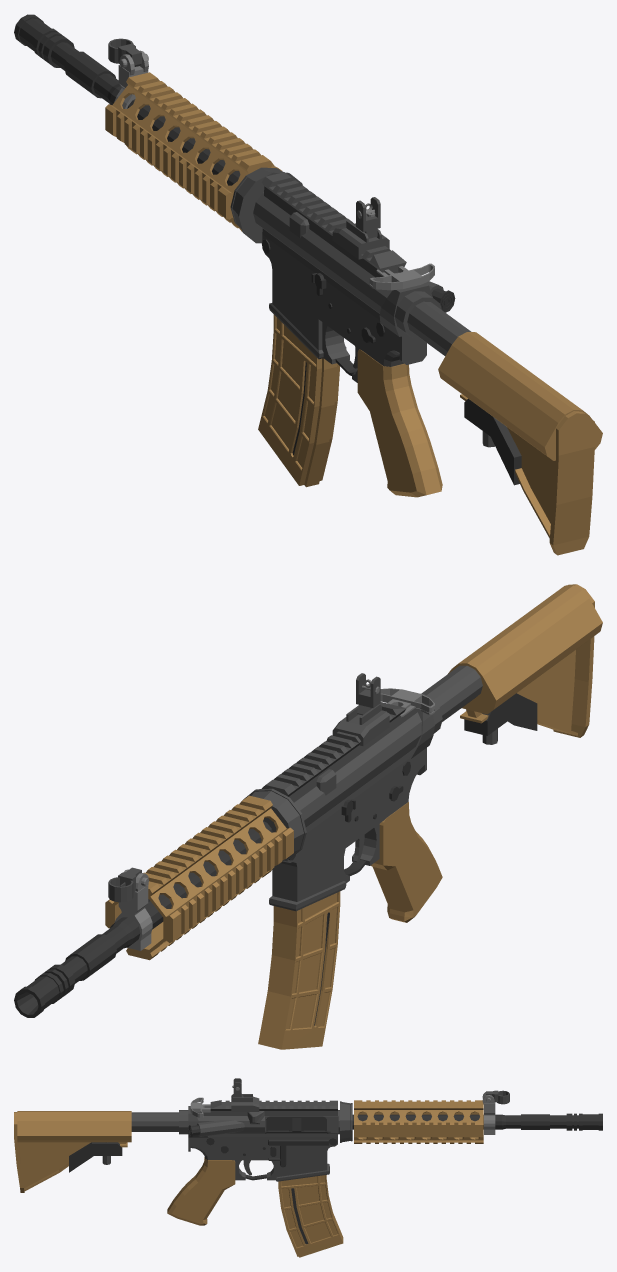
3 views of the same model, one above another, from view 1: azimuth 30°, elevation 25°; view 2: azimuth 150°, elevation 25°; view 3: azimuth 270°, elevation 25° (orthographic). The views are drawn at different scales.
Visible parts, largest first — view 1: M4_8, M4_8_Magazine, M4_8_Rear_Sight, M4_8_Bolt; view 2: M4_8, M4_8_Magazine, M4_8_Rear_Sight, M4_8_Bolt, M4_8_Sight; view 3: M4_8, M4_8_Magazine, M4_8_Rear_Sight, M4_8_Bolt.
Part boxes in pixels (<box>): M4_8: <box>14,14,602,555</box>; M4_8_Magazine: <box>258,314,339,487</box>; M4_8_Rear_Sight: <box>332,197,389,259</box>; M4_8_Bolt: <box>369,263,434,290</box>; M4_8: <box>14,584,602,1017</box>; M4_8_Magazine: <box>258,891,340,1049</box>; M4_8_Rear_Sight: <box>332,673,389,746</box>; M4_8_Bolt: <box>380,688,434,717</box>; M4_8_Sight: <box>108,867,141,902</box>; M4_8: <box>14,1092,602,1225</box>; M4_8_Magazine: <box>278,1175,343,1257</box>; M4_8_Rear_Sight: <box>231,1078,259,1111</box>; M4_8_Bolt: <box>190,1097,210,1117</box>.
Size of the model in its own units: 0.0607 by 0.2407 by 0.7349.
Materials: 1 (1 with a texture image).
